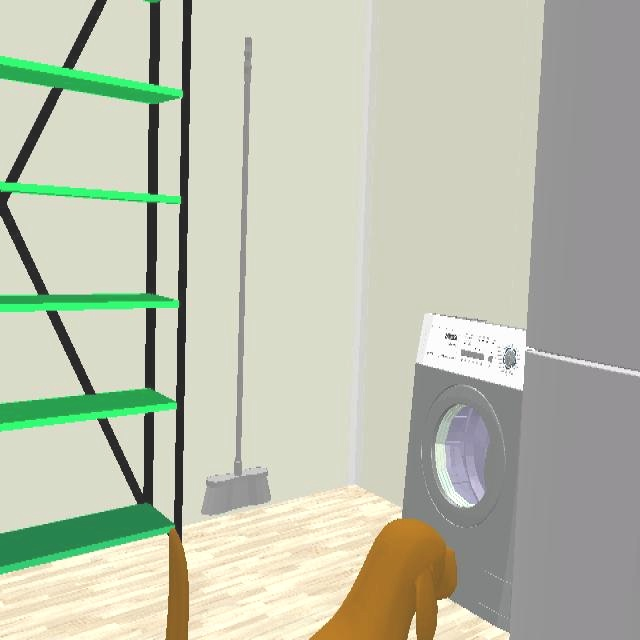shelf: (0, 502, 174, 572), (0, 58, 182, 102), (0, 388, 176, 431), (0, 182, 180, 202), (0, 293, 179, 312)
